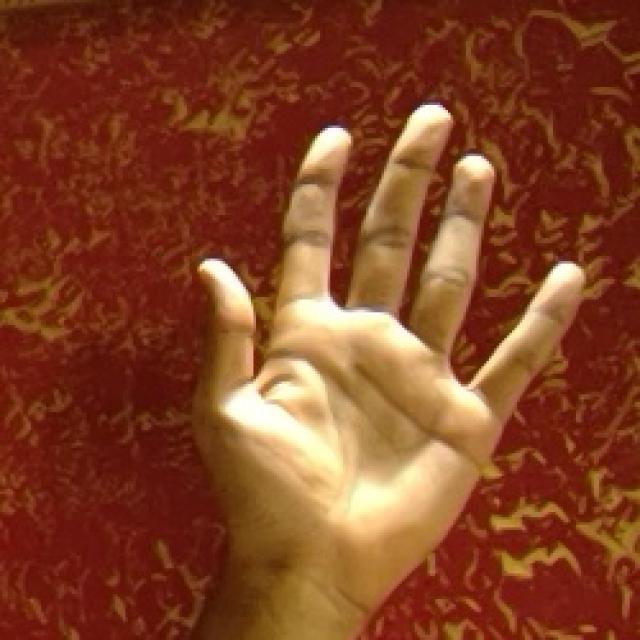Numeric-5: (195, 96, 588, 604)
